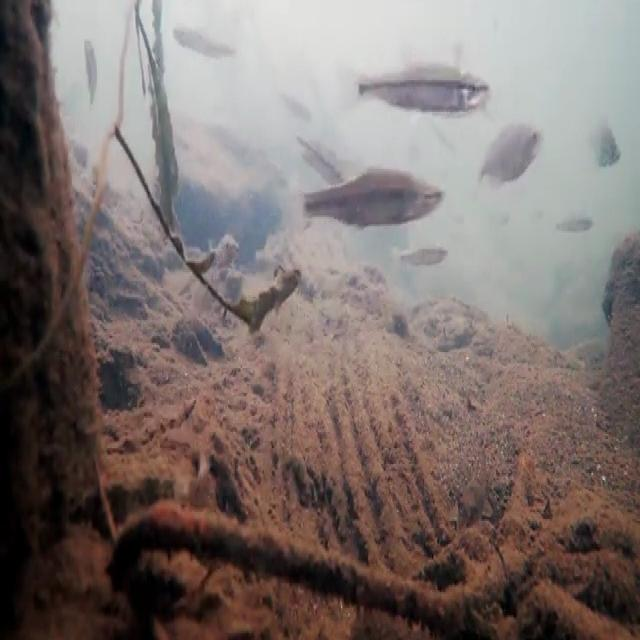Cakil Baligi: (334, 36, 491, 125), (279, 160, 453, 234)
